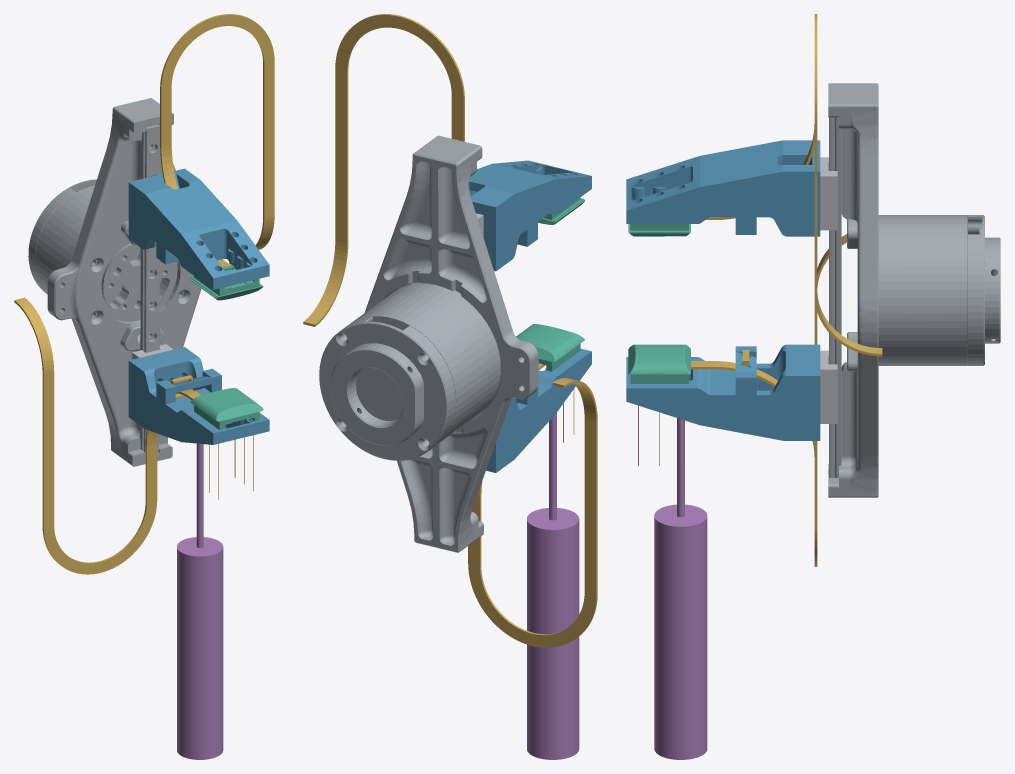
File: sensor_screw_access.glb
3 renders of one model, left to right at view 1: azimuth 30°, elevation 25°; view 2: azimuth 150°, elevation 25°; view 3: azimuth 270°, elevation 25°, orthographic. The views are drawn at different scales.
Visible parts, largest first — view 1: original_actuator_and_transmission, S3_driver_reference_with_assumed_handle, replacement_finger_2, replacement_finger_1, service_loop_envelope_1, service_loop_envelope_2, M2324_1, M2324_2, moving_harness_envelope_2; view 2: original_actuator_and_transmission, S3_driver_reference_with_assumed_handle, replacement_finger_2, service_loop_envelope_2, service_loop_envelope_1, replacement_finger_1, M2324_1; view 3: original_actuator_and_transmission, S3_driver_reference_with_assumed_handle, replacement_finger_2, replacement_finger_1, M2324_1, service_loop_envelope_2, retained_carrier_1, retained_carrier_2, service_loop_envelope_1, M2324_2, moving_harness_envelope_1.
Boxes of the visible parts, x1,y1,x2,y2 form: original_actuator_and_transmission: (28, 98, 201, 466); S3_driver_reference_with_assumed_handle: (177, 443, 223, 759); replacement_finger_2: (128, 168, 269, 289); replacement_finger_1: (128, 347, 269, 444); service_loop_envelope_1: (14, 297, 157, 574); service_loop_envelope_2: (160, 14, 274, 249); M2324_1: (190, 388, 263, 429); M2324_2: (190, 262, 263, 300); moving_harness_envelope_2: (160, 143, 228, 265); original_actuator_and_transmission: (319, 135, 538, 552); S3_driver_reference_with_assumed_handle: (527, 412, 579, 759); replacement_finger_2: (468, 160, 591, 271); service_loop_envelope_2: (303, 14, 464, 326); service_loop_envelope_1: (468, 378, 597, 647); replacement_finger_1: (486, 348, 591, 472); M2324_1: (516, 324, 584, 371); original_actuator_and_transmission: (828, 83, 1000, 497); S3_driver_reference_with_assumed_handle: (654, 418, 707, 759); replacement_finger_2: (626, 140, 820, 236); replacement_finger_1: (626, 344, 820, 440); M2324_1: (628, 344, 690, 383); service_loop_envelope_2: (814, 14, 882, 356); retained_carrier_1: (820, 350, 837, 423); retained_carrier_2: (820, 157, 837, 230); service_loop_envelope_1: (814, 234, 846, 566); M2324_2: (628, 224, 690, 236); moving_harness_envelope_1: (691, 361, 817, 459).
Bounding box in the file's own units: 0.1152 × 0.3205 × 0.1412.
